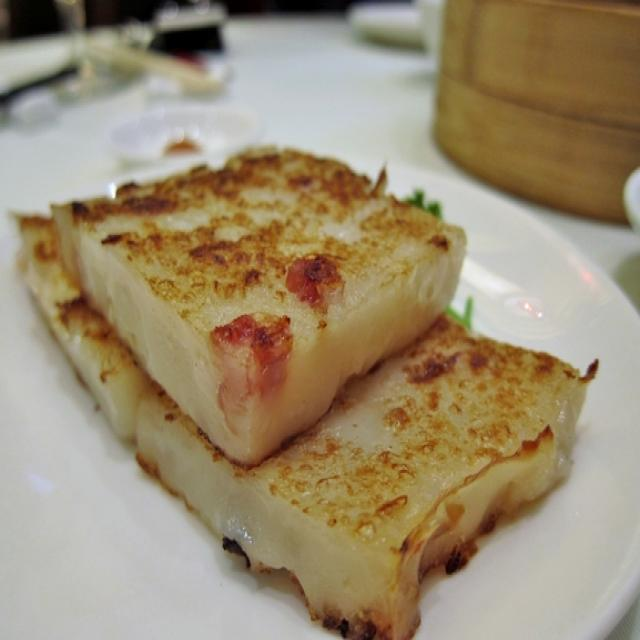蛋糕甜品: (28, 95, 579, 631)
